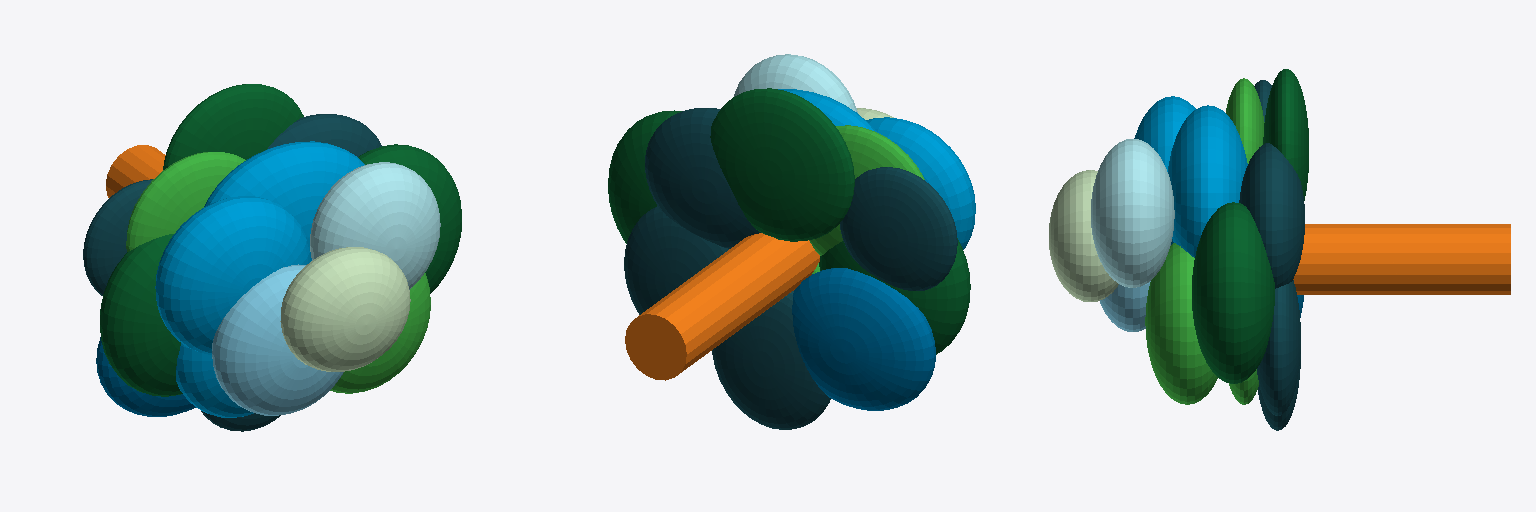
The model's file is wood.obj.
The picture shows the model from 3 angles: view 1: azimuth 30°, elevation 25°; view 2: azimuth 150°, elevation 25°; view 3: azimuth 270°, elevation 25°; orthographic projection.
Visible parts, largest first — view 1: obj_0; view 2: obj_0; view 3: obj_0.
Part boxes in pixels (left/top/right/bottom): obj_0: left=83, top=84, right=461, bottom=431; obj_0: left=608, top=54, right=975, bottom=429; obj_0: left=1049, top=69, right=1510, bottom=430.
Bounding box in the file's own units: 99 × 90 × 110.